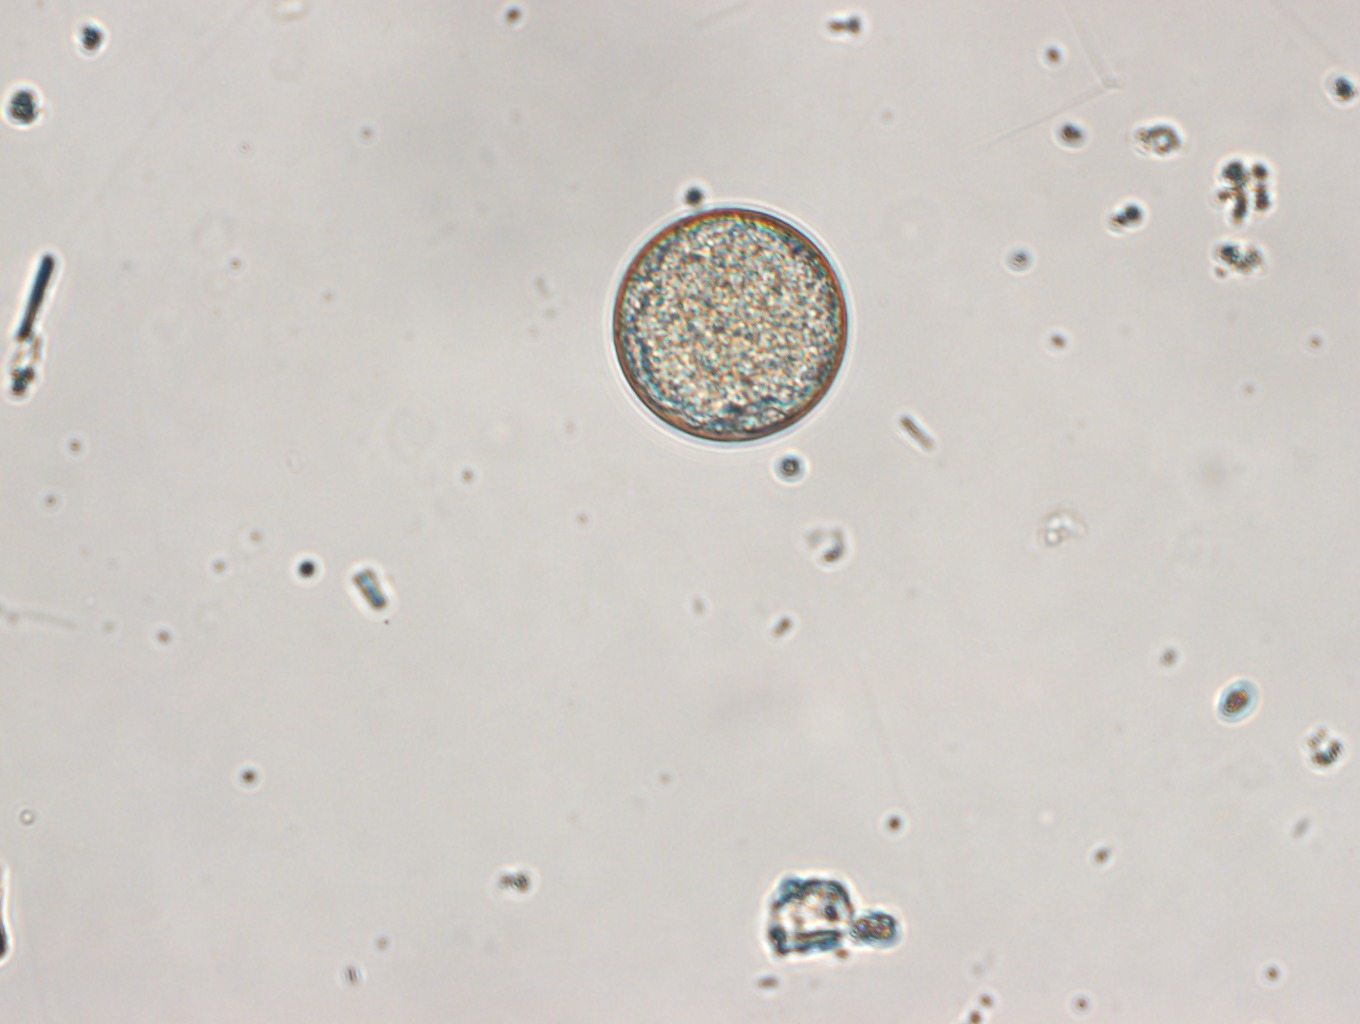coscinodiscus: (605, 196, 862, 450)
